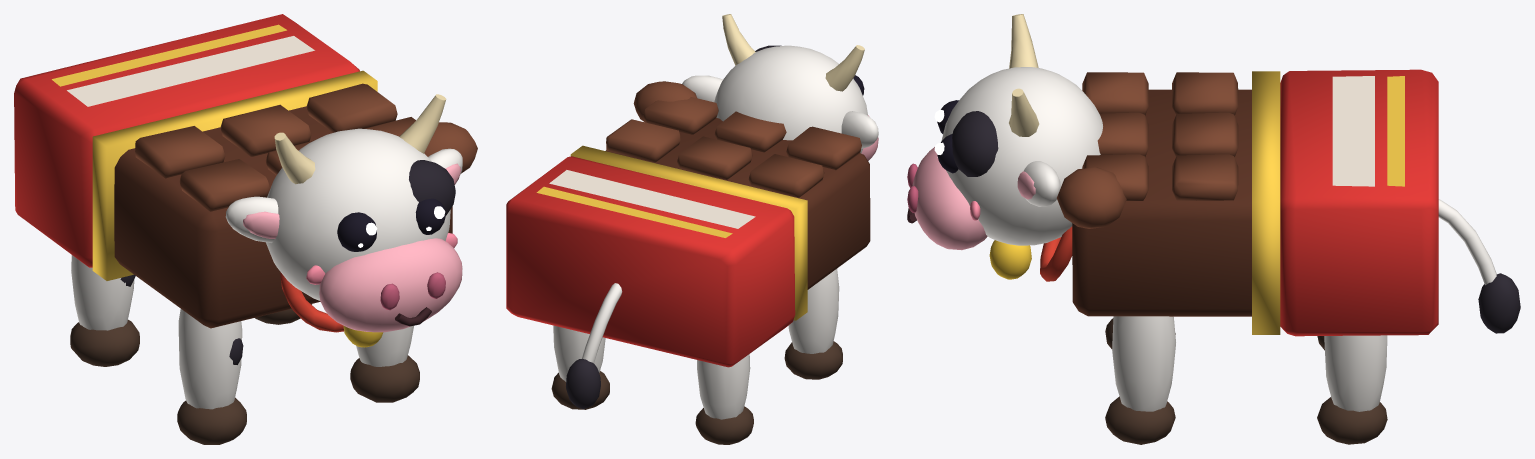
Rendered from pilot_ku_sjoko_lav.glb.
3 views of the same model, side by side, from view 1: azimuth 30°, elevation 25°; view 2: azimuth 150°, elevation 25°; view 3: azimuth 270°, elevation 25° (orthographic). The views are drawn at different scales.
Visible parts, largest first — view 1: kropp, hode, bein_vf, bein_vb, bein_hf; view 2: kropp, hode, bein_vf, bein_vb, hale, bein_hb; view 3: kropp, hode, bein_hf, bein_hb, hale.
Boxes of the visible parts, box(x1,y1,x2,y2) form: kropp: box(14, 14, 477, 328); hode: box(225, 94, 462, 347); bein_vf: box(177, 309, 246, 444); bein_vb: box(70, 255, 139, 366); bein_hf: box(350, 325, 419, 402); kropp: box(506, 81, 870, 367); hode: box(682, 14, 878, 160); bein_vf: box(784, 268, 842, 379); bein_vb: box(695, 354, 753, 444); hale: box(566, 283, 622, 409); bein_hb: box(551, 325, 609, 409); kropp: box(1057, 69, 1438, 336); hode: box(907, 14, 1102, 281); bein_hf: box(1105, 316, 1175, 444); bein_hb: box(1317, 335, 1387, 444); hale: box(1438, 199, 1520, 333).
Size of the model in its own units: 0.9384 by 1.08 by 1.74.
